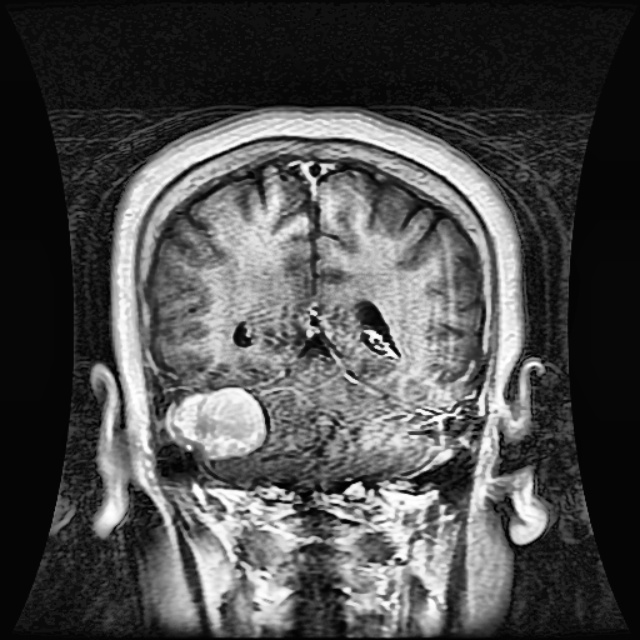Glioma: (167, 385, 264, 459)
